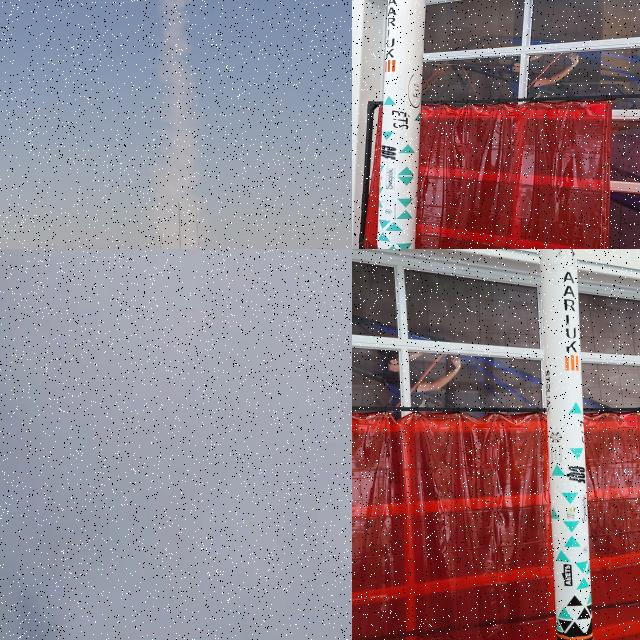Rocket: (539, 249, 593, 640), (377, 0, 426, 249)
